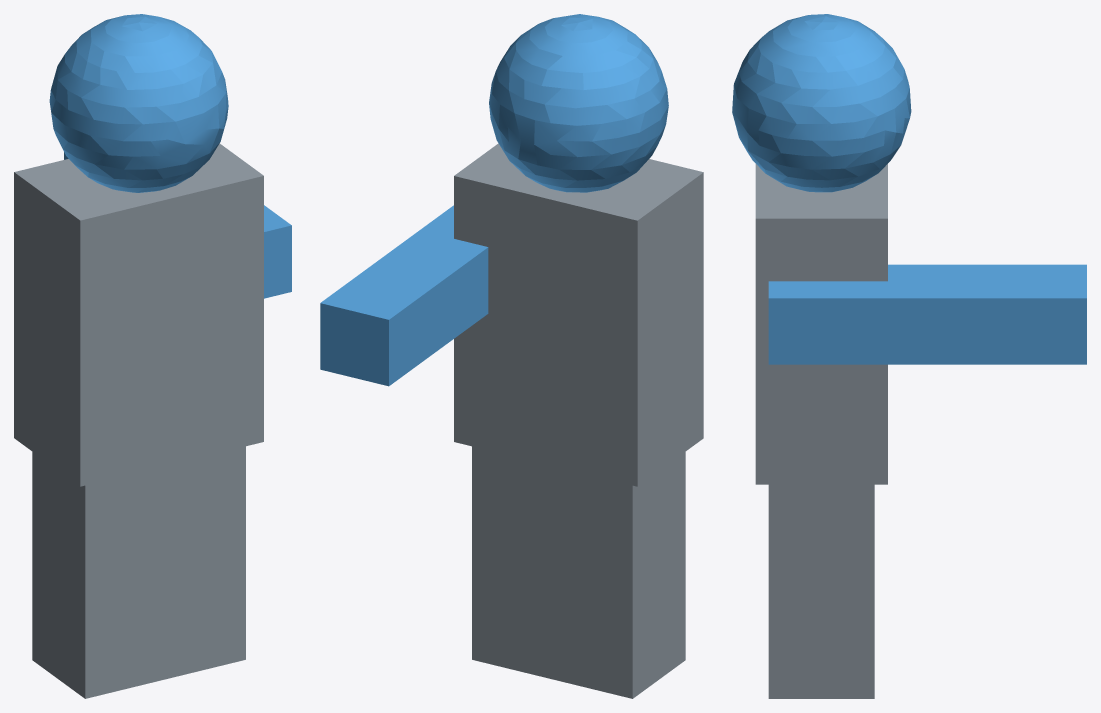
Rendered from AL_Hero_Hart_LOD1.glb.
3 renders of one model, left to right at view 1: azimuth 30°, elevation 25°; view 2: azimuth 150°, elevation 25°; view 3: azimuth 270°, elevation 25°, orthographic.
Visible parts, largest first — view 1: Head; view 2: Head; view 3: Head.
Part boxes in pixels (box(x1,y1,x2,y2)): Head: box(14, 14, 291, 698); Head: box(320, 14, 703, 698); Head: box(732, 14, 1086, 698).
Size of the model in its own units: 61.75 by 172 by 86.99.
